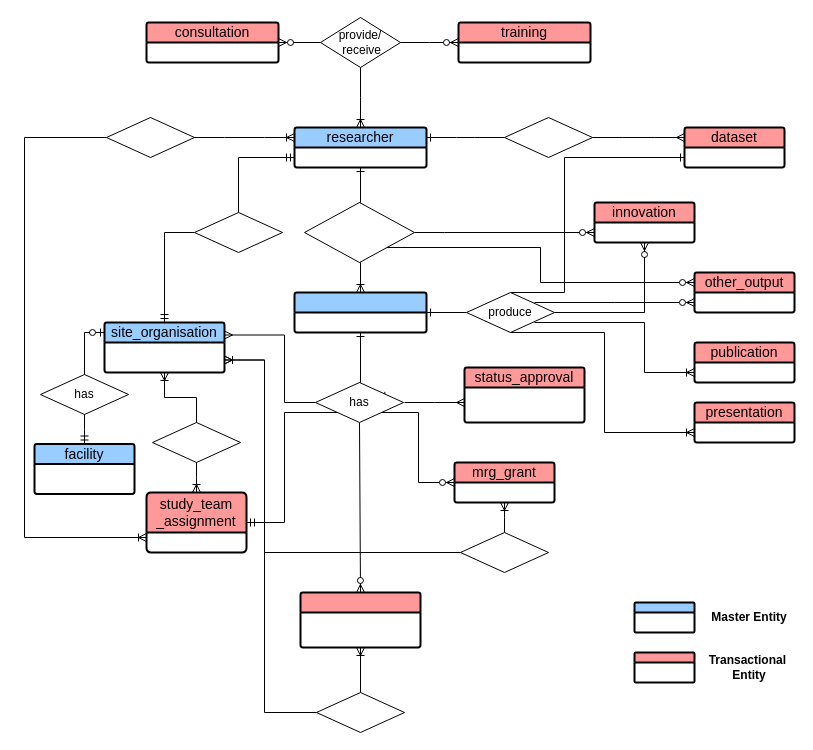
Some shapes in this 813 by 750 pixel diagram are drawn without their labels. Each missing label, with the centre of its shape:
assigned to: point (196, 442)
awarded by: point (504, 552)
belongs to: point (238, 232)
collaboration: point (360, 619)
conducts / produces: point (359, 232)
is part of: point (150, 137)
request: point (548, 137)
research: point (360, 312)
with: point (360, 712)
